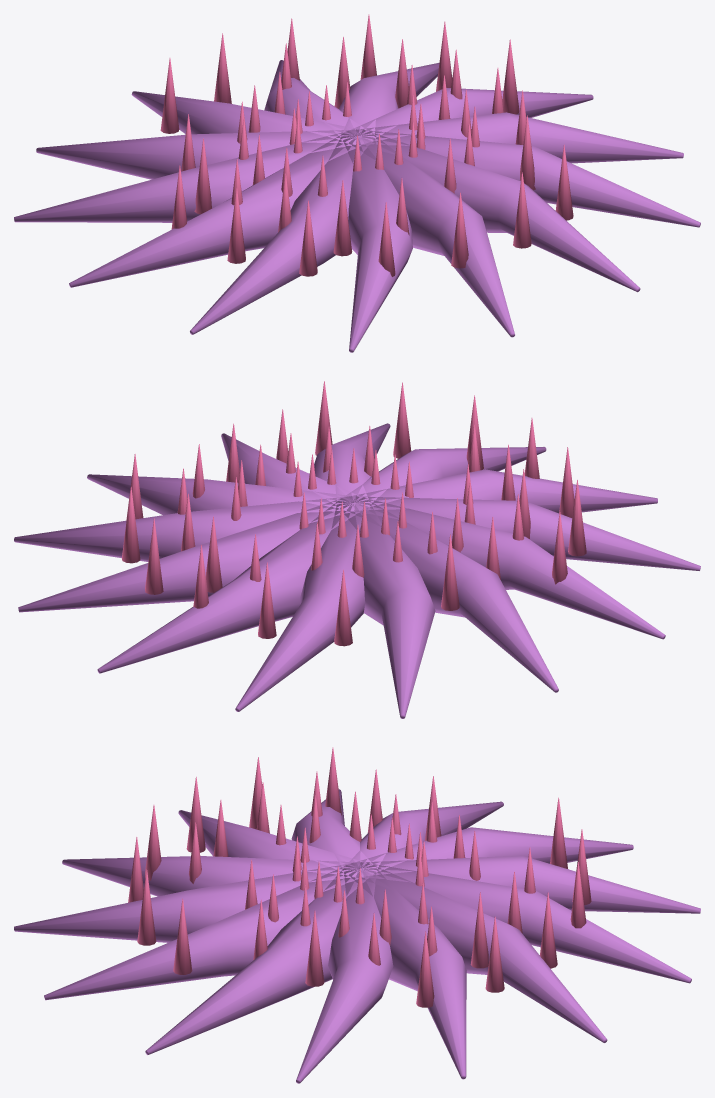
Rendered from underwater-reef-worlds-crown-of-thorns-008c221d__7026.glb.
3 views of the same model, one above another, from view 1: azimuth 30°, elevation 25°; view 2: azimuth 150°, elevation 25°; view 3: azimuth 270°, elevation 25° (orthographic).
Parts seen in each view (by area): view 1: crown-of-thorns; view 2: crown-of-thorns; view 3: crown-of-thorns.
Part boxes in pixels (bbox=[...]): crown-of-thorns: bbox=[14, 14, 700, 352]; crown-of-thorns: bbox=[14, 381, 700, 718]; crown-of-thorns: bbox=[14, 747, 700, 1083].
Size of the model in its own units: 1.29 by 0.2427 by 1.29.
